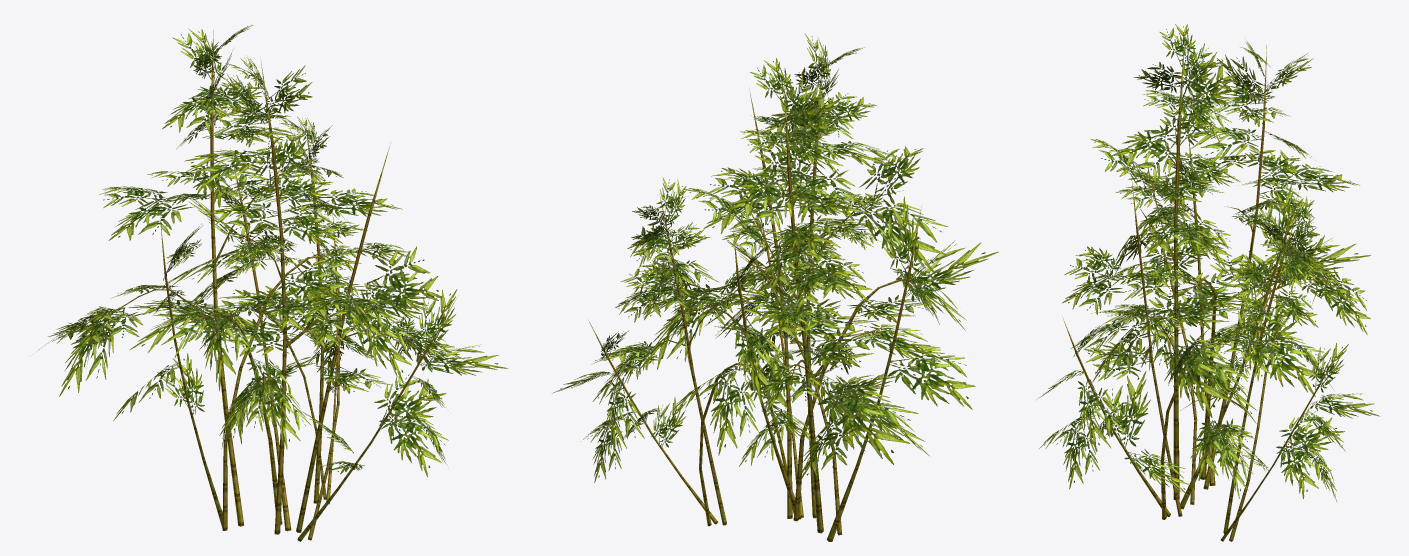
Rendered from S_Tree_Green002.FBX.
The picture shows the model from 3 angles, left to right: view 1: azimuth 30°, elevation 25°; view 2: azimuth 150°, elevation 25°; view 3: azimuth 270°, elevation 25°; orthographic projection. The views are drawn at different scales.
Parts seen in each view (by area): view 1: S_Tree_Green002; view 2: S_Tree_Green002; view 3: S_Tree_Green002.
Part boxes in pixels (x1,y1,x2,y2): S_Tree_Green002: (39,25,508,541); S_Tree_Green002: (552,33,998,541); S_Tree_Green002: (1038,24,1379,541).
Bounding box in the file's own units: 714 × 562 × 800.
